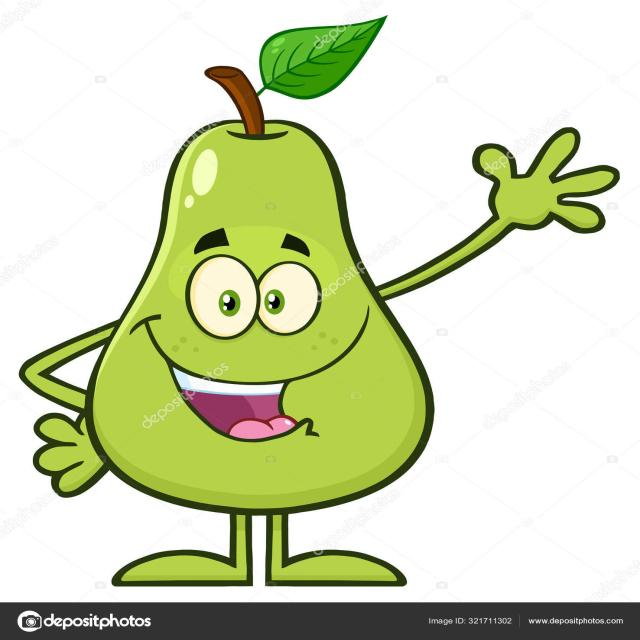pera: (26, 24, 561, 600)
